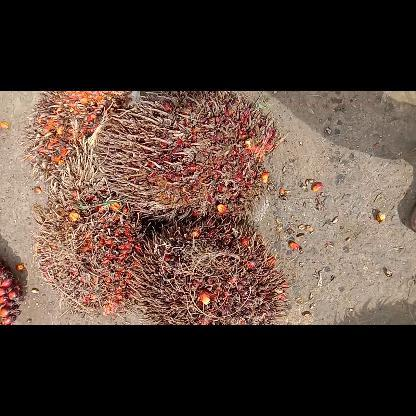Terlalu masak: (95, 91, 277, 219), (30, 146, 148, 314), (132, 218, 290, 324), (21, 90, 130, 180)
